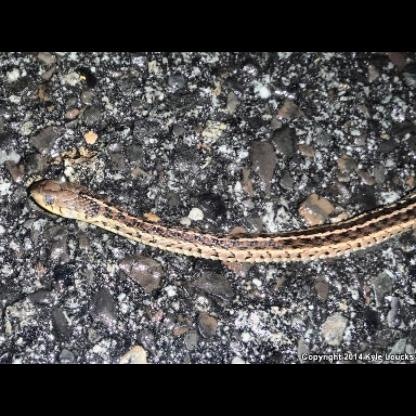Snake: (25, 170, 416, 265)
